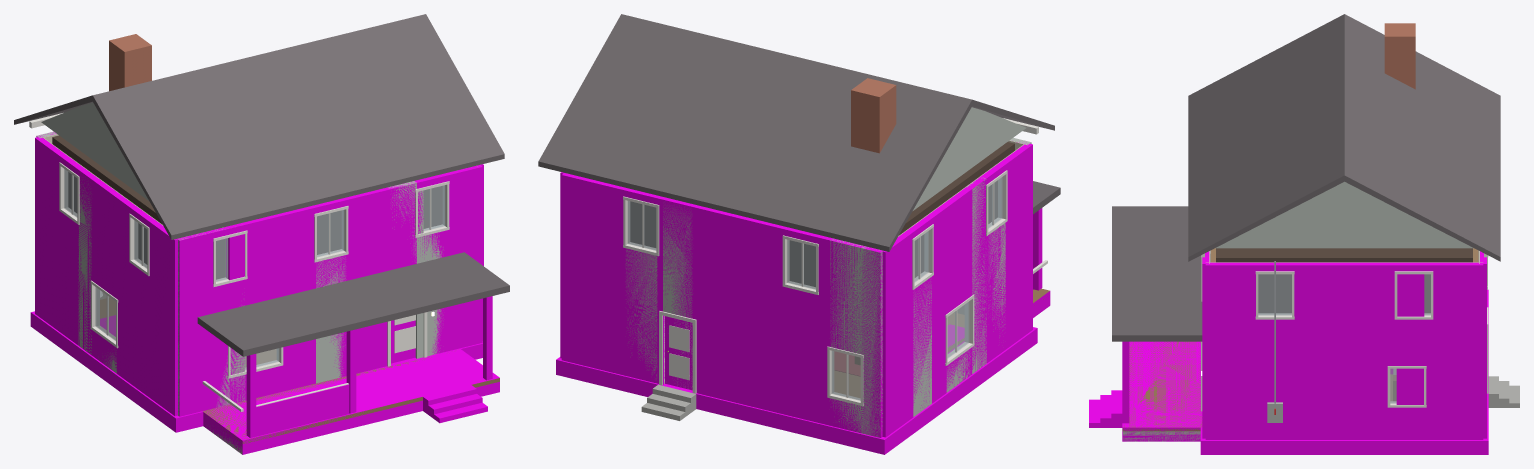
Rendered from house_a.glb.
The picture shows the model from 3 angles, left to right: view 1: azimuth 30°, elevation 25°; view 2: azimuth 150°, elevation 25°; view 3: azimuth 270°, elevation 25°; orthographic projection. The views are drawn at different scales.
Parts seen in each view (by area): view 1: Roof, Porch_Roof, COL_Porch, COL_Wall_Front_0, COL_Wall_Left_9, Wall_Front, COL_Wall_Front_8, COL_Wall_Front_12, COL_Wall_Left_0, COL_Wall_Front_5, COL_Wall_Front_3, Upper_Glow (+34 smaller); view 2: Roof, COL_Wall_Back_6, Wall_Back, COL_Wall_Back_11, COL_Foundation, COL_Wall_Left_0, Wall_Left, COL_Wall_Left_9, COL_Wall_Back_10, Upper_Glow, COL_Wall_Back_5, Wall_Back_Trim (+27 smaller); view 3: Roof, COL_Wall_Right_5, Porch_Roof, COL_Wall_Right_0, COL_Wall_Right_8, Gables, COL_Porch, Upper_Glow, COL_Foundation, Porch_Deck, COL_Wall_Right_7, COL_Wall_Right_2 (+10 smaller).
Part boxes in pixels (<box>): Roof: <box>14,14,504,239</box>; Porch_Roof: <box>197,252,509,356</box>; COL_Porch: <box>203,349,499,454</box>; COL_Wall_Front_0: <box>177,230,214,416</box>; COL_Wall_Left_9: <box>148,219,177,415</box>; Wall_Front: <box>178,181,443,415</box>; COL_Wall_Front_8: <box>344,187,390,375</box>; COL_Wall_Front_12: <box>445,165,482,351</box>; COL_Wall_Left_0: <box>35,137,66,332</box>; COL_Wall_Front_5: <box>279,205,315,391</box>; COL_Wall_Front_3: <box>226,214,280,308</box>; Upper_Glow: <box>52,135,442,279</box>; Roof: <box>538,14,1054,251</box>; COL_Wall_Back_6: <box>693,205,787,414</box>; Wall_Back: <box>625,205,882,437</box>; COL_Wall_Back_11: <box>561,173,627,375</box>; COL_Foundation: <box>556,327,1037,454</box>; COL_Wall_Left_0: <box>880,230,913,437</box>; Wall_Left: <box>913,177,1005,416</box>; COL_Wall_Left_9: <box>999,143,1032,349</box>; COL_Wall_Back_10: <box>625,248,657,383</box>; Upper_Glow: <box>630,142,1014,286</box>; COL_Wall_Back_5: <box>785,287,816,422</box>; Wall_Back_Trim: <box>623,196,863,406</box>; Roof: <box>1188,14,1500,261</box>; COL_Wall_Right_5: <box>1292,262,1389,439</box>; Porch_Roof: <box>1112,206,1202,341</box>; COL_Wall_Right_0: <box>1431,262,1483,439</box>; COL_Wall_Right_8: <box>1205,262,1257,439</box>; Gables: <box>1215,181,1473,248</box>; COL_Porch: <box>1122,341,1202,441</box>; Upper_Glow: <box>1216,248,1472,312</box>; COL_Foundation: <box>1200,289,1488,454</box>; Porch_Deck: <box>1122,341,1202,431</box>; COL_Wall_Right_7: <box>1257,319,1292,439</box>; COL_Wall_Right_2: <box>1396,319,1431,439</box>.
Size of the model in its own units: 11 by 9.55 by 12.41.
